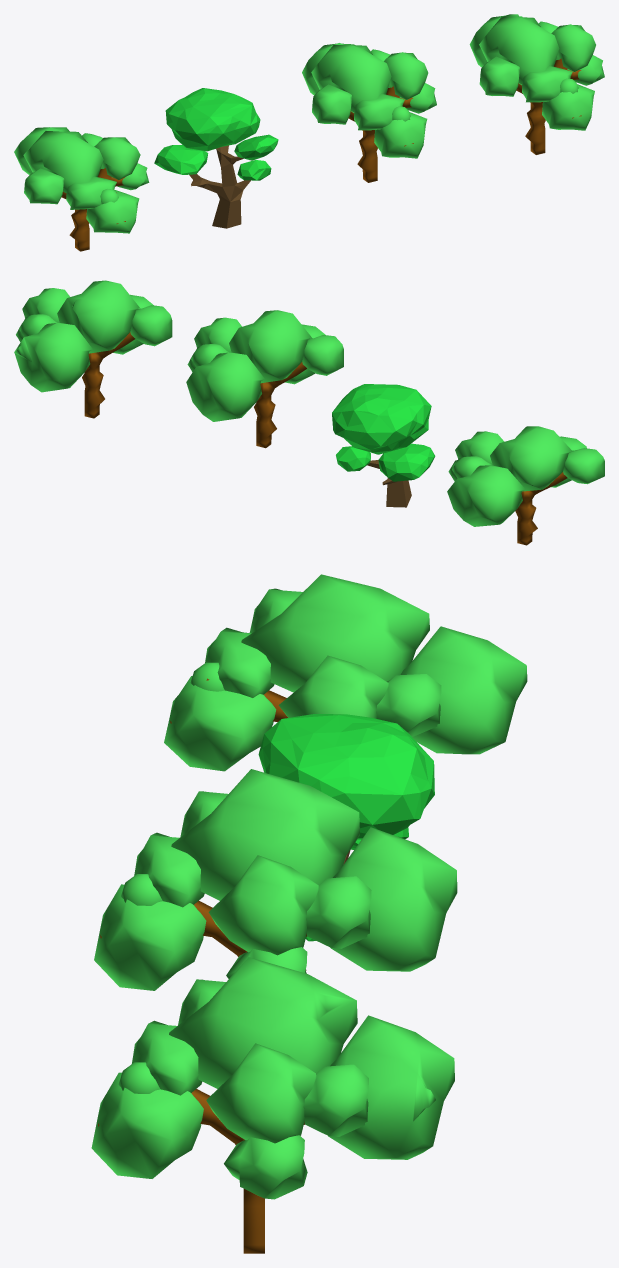
Rendered from treee.fbx.
3 views of the same model, one above another, from view 1: azimuth 30°, elevation 25°; view 2: azimuth 150°, elevation 25°; view 3: azimuth 270°, elevation 25° (orthographic). The views are drawn at different scales.
Visible parts, largest first — view 1: Icosphere.005, Icosphere.002, Icosphere.003, Tree1; view 2: Icosphere.005, Icosphere.002, Icosphere.003, Tree1; view 3: Icosphere.005, Icosphere.002, Icosphere.003, Tree1.
Boxes of the visible parts, x1=… form: Icosphere.005: x1=469, y1=14, x2=604, y2=154; Icosphere.002: x1=302, y1=43, x2=436, y2=182; Icosphere.003: x1=14, y1=127, x2=149, y2=251; Tree1: x1=154, y1=88, x2=278, y2=228; Icosphere.005: x1=14, y1=280, x2=172, y2=418; Icosphere.002: x1=186, y1=310, x2=343, y2=448; Icosphere.003: x1=447, y1=426, x2=604, y2=545; Tree1: x1=332, y1=384, x2=435, y2=507; Icosphere.005: x1=91, y1=957, x2=454, y2=1253; Icosphere.002: x1=94, y1=769, x2=457, y2=990; Icosphere.003: x1=164, y1=574, x2=527, y2=771; Tree1: x1=258, y1=714, x2=434, y2=970.
Bounding box in the file's own units: 230 × 59.23 × 76.1.
